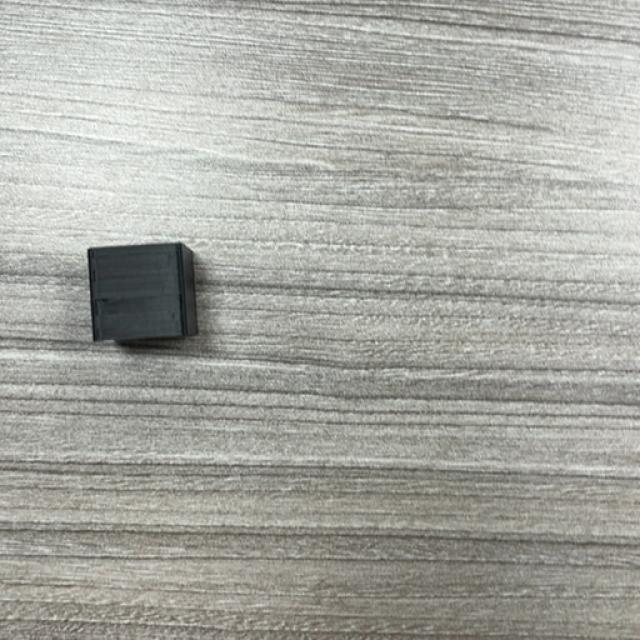Negro: (88, 242, 198, 344)
